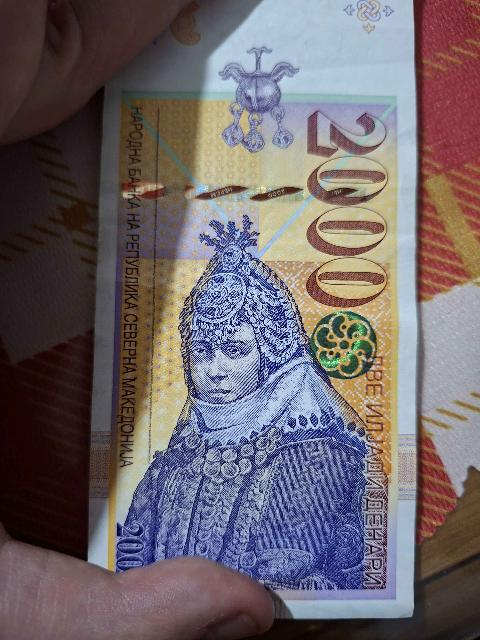2000_note: (85, 0, 422, 615)
